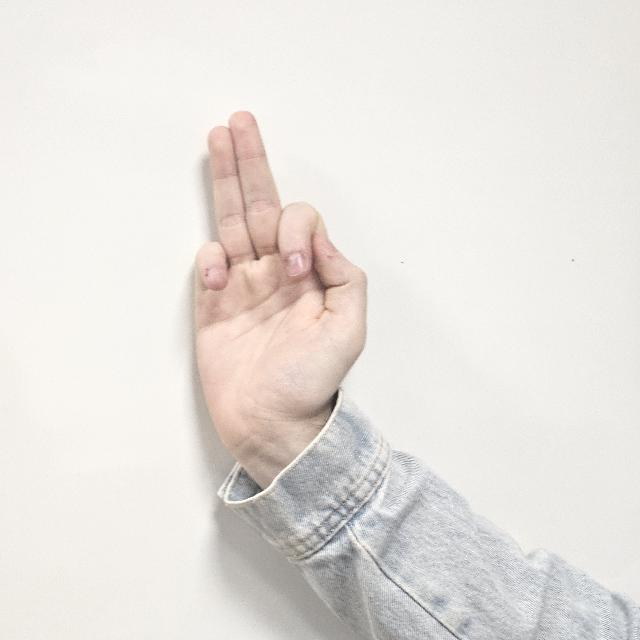R: (182, 106, 370, 484)
